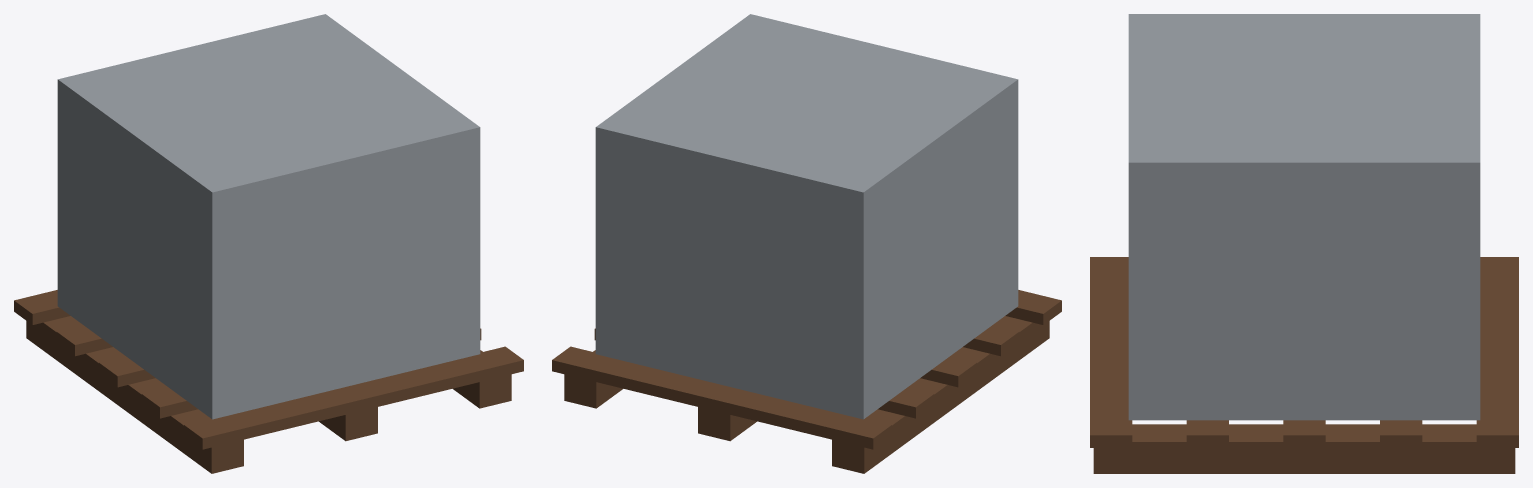
File: cp_pallet.glb
3 views of the same model, side by side, from view 1: azimuth 30°, elevation 25°; view 2: azimuth 150°, elevation 25°; view 3: azimuth 270°, elevation 25° (orthographic). The views are drawn at different scales.
Visible parts, largest first — view 1: city_cp_pallet; view 2: city_cp_pallet; view 3: city_cp_pallet.
Part boxes in pixels (<box>): city_cp_pallet: <box>14,14,523,473</box>; city_cp_pallet: <box>552,14,1061,473</box>; city_cp_pallet: <box>1090,14,1518,473</box>.
Bounding box in the file's own units: 1.2 × 0.95 × 1.22.
Materials: 2 (2 with a texture image).
